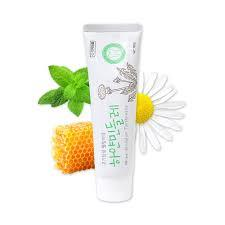toothpaste: (78, 21, 146, 209)
